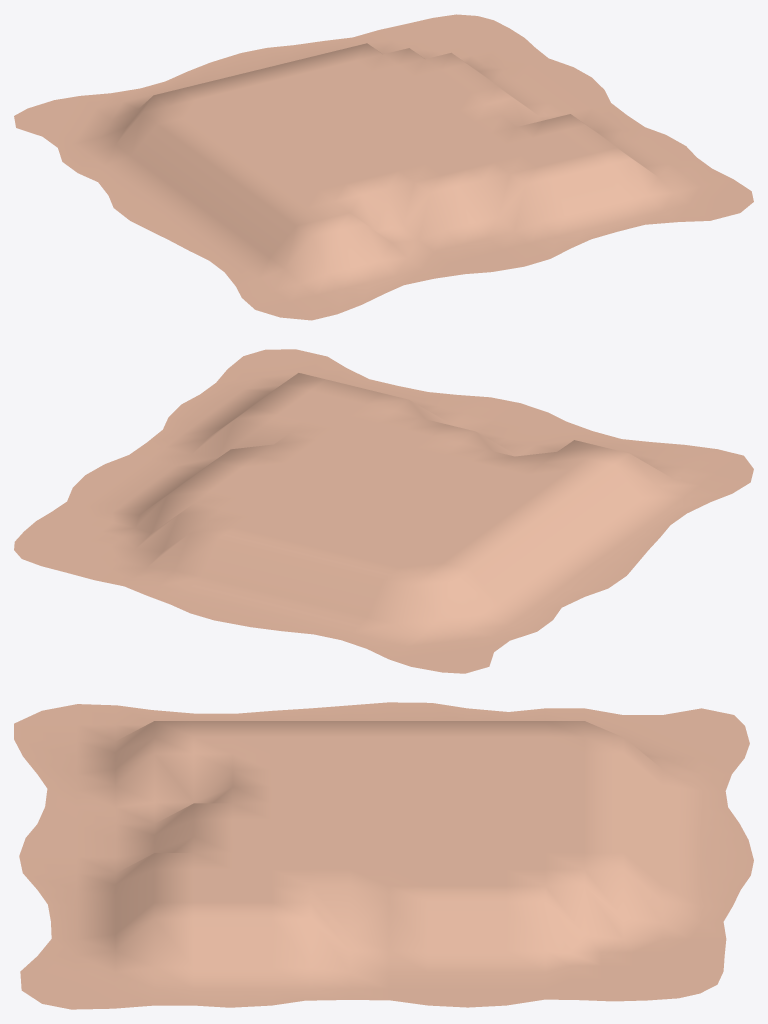
Rendered from SM_Ile_Vaihiria.fbx.
3 renders of one model, top to bottom at view 1: azimuth 30°, elevation 25°; view 2: azimuth 150°, elevation 25°; view 3: azimuth 270°, elevation 25°, orthographic. The views are drawn at different scales.
Visible parts, largest first — view 1: Ile; view 2: Ile; view 3: Ile.
Boxes of the visible parts, left/top/right/bottom form: Ile: left=14, top=14, right=753, bottom=320; Ile: left=14, top=349, right=753, bottom=673; Ile: left=14, top=702, right=753, bottom=1009.
Bounding box in the file's own units: 504 × 28.31 × 513.
